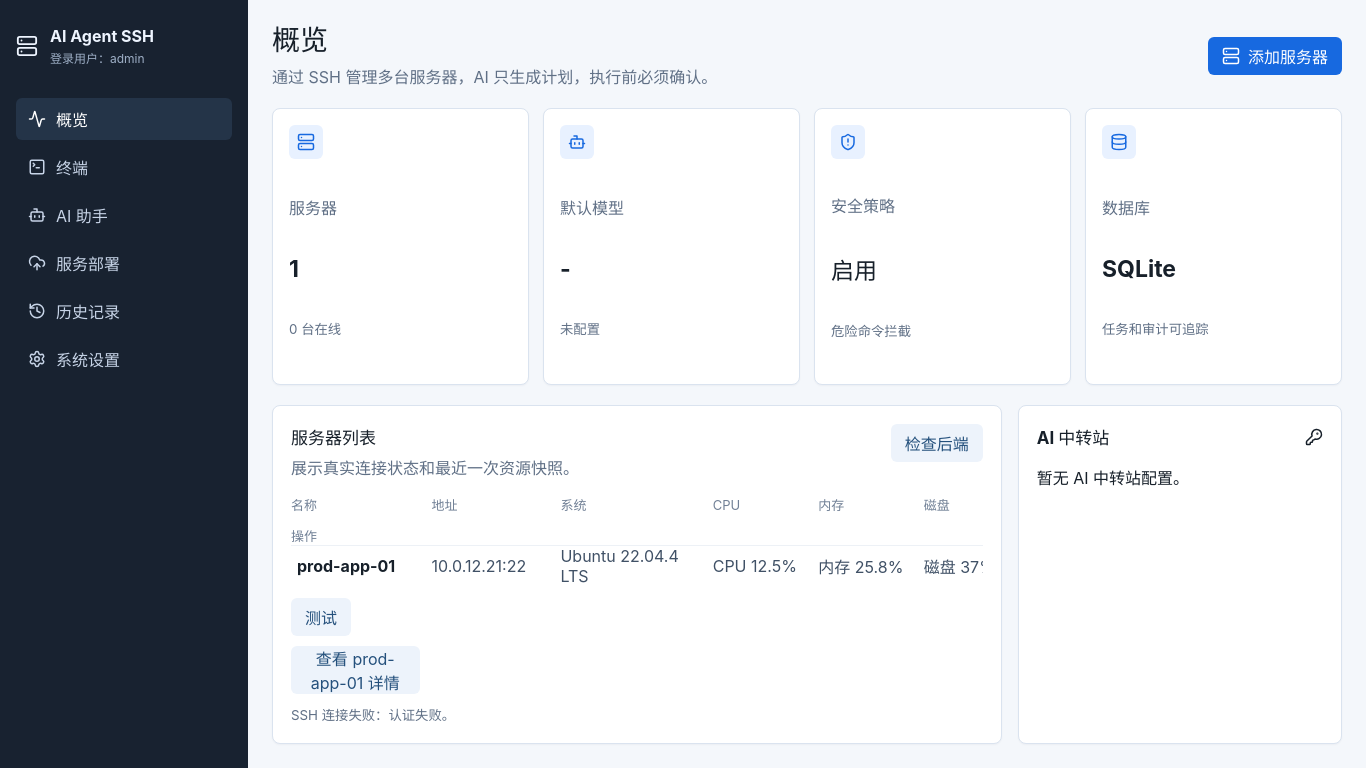
App interactions › routes double-slash terminal input to the AI assistant
Click the button "终端".
click(124, 167)  # box x1=16 y1=146 x2=232 y2=188
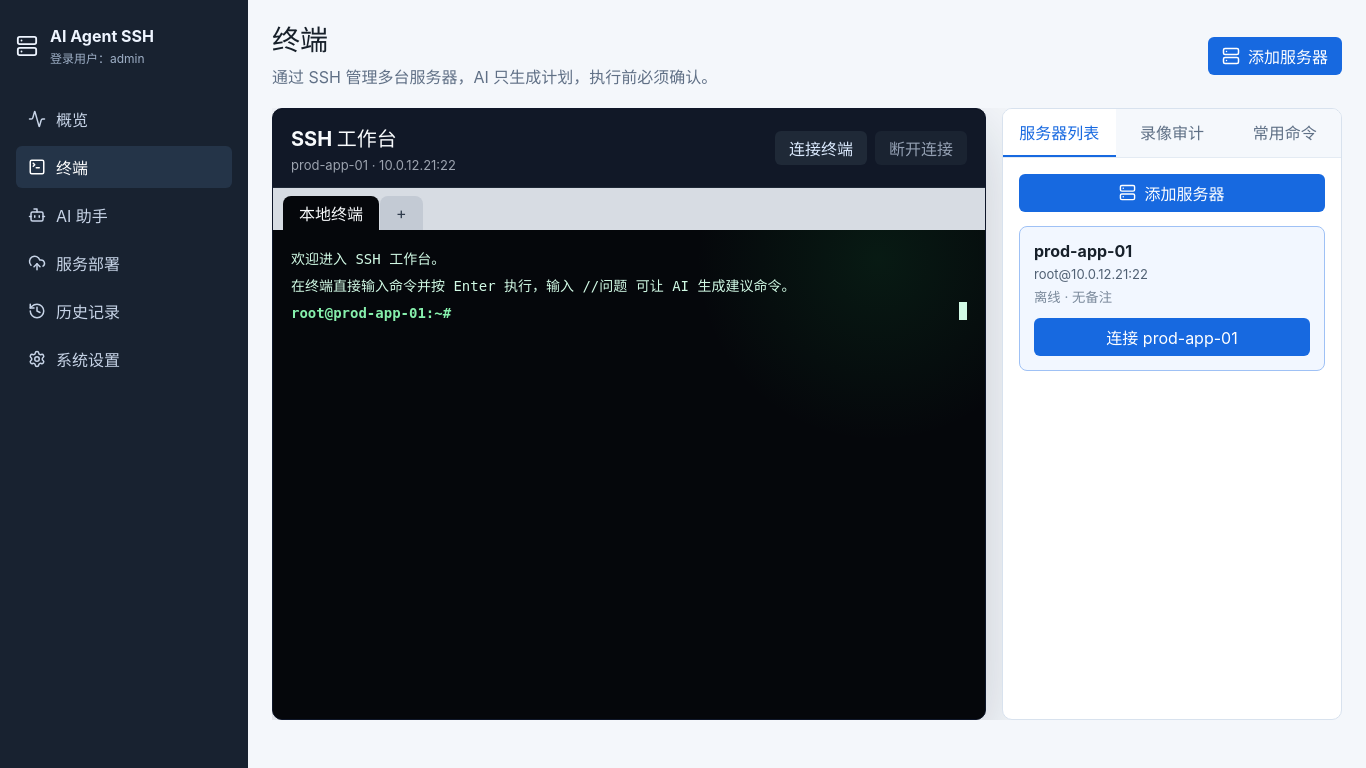
Type keys "//查看磁盘和内存{Enter}"
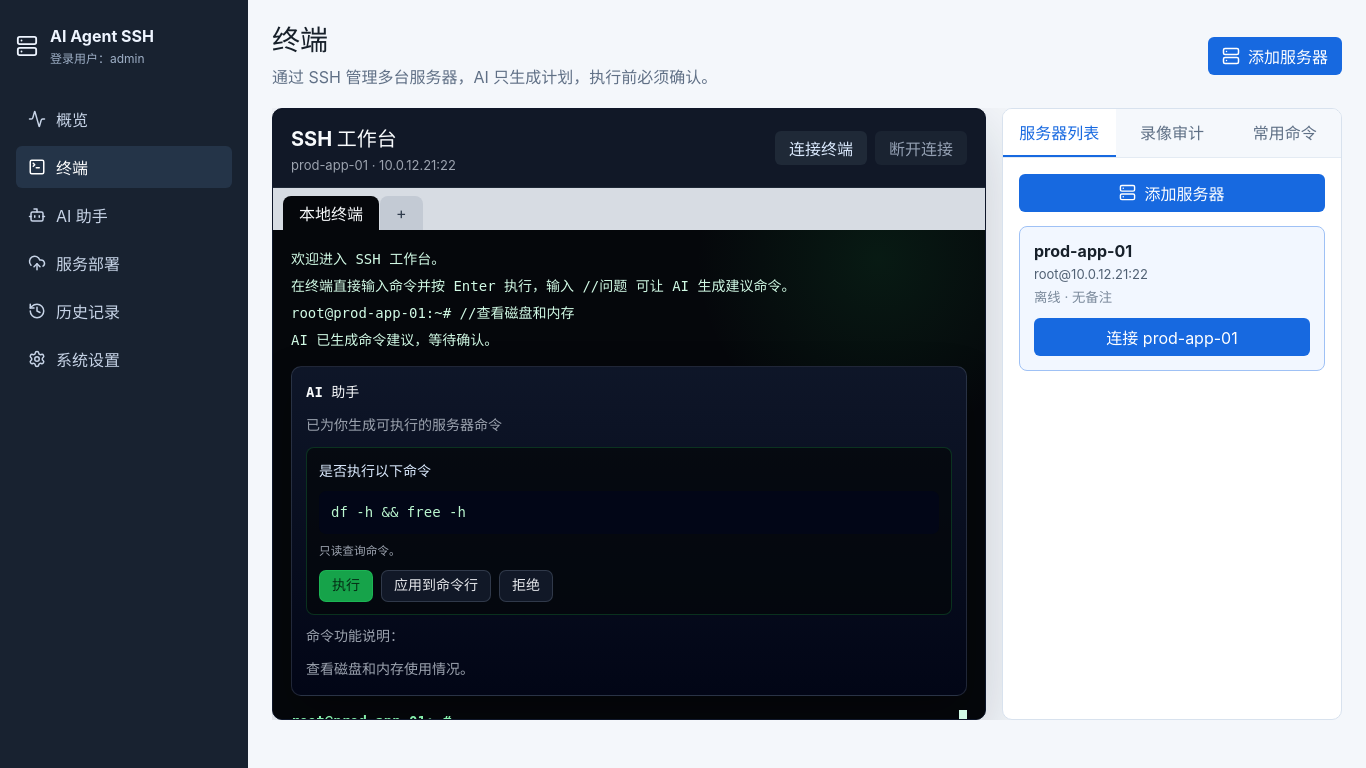
Check: the text "已为你生成可执行的服务器命令" is shown, box x1=306 y1=417 x2=502 y2=433
Check: the text "df -h && free -h" is shown, box x1=319 y1=491 x2=939 y2=534
Check: the button "应用到命令行" is shown, box x1=381 y1=570 x2=491 y2=602
